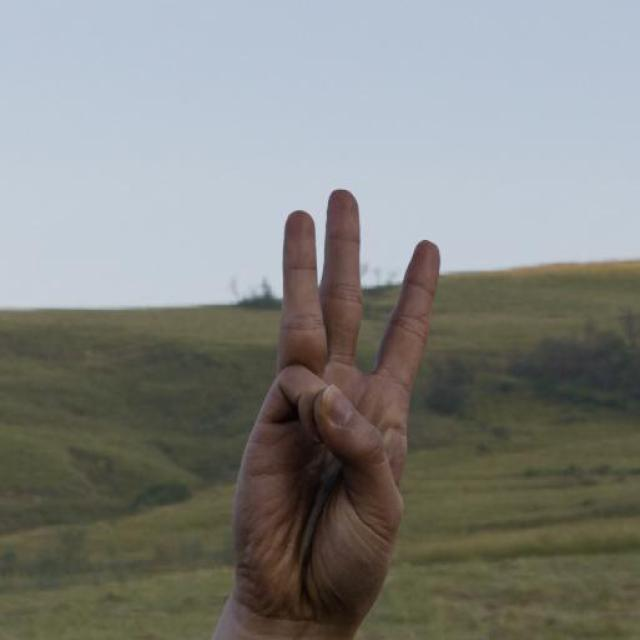W: (207, 157, 457, 640)
